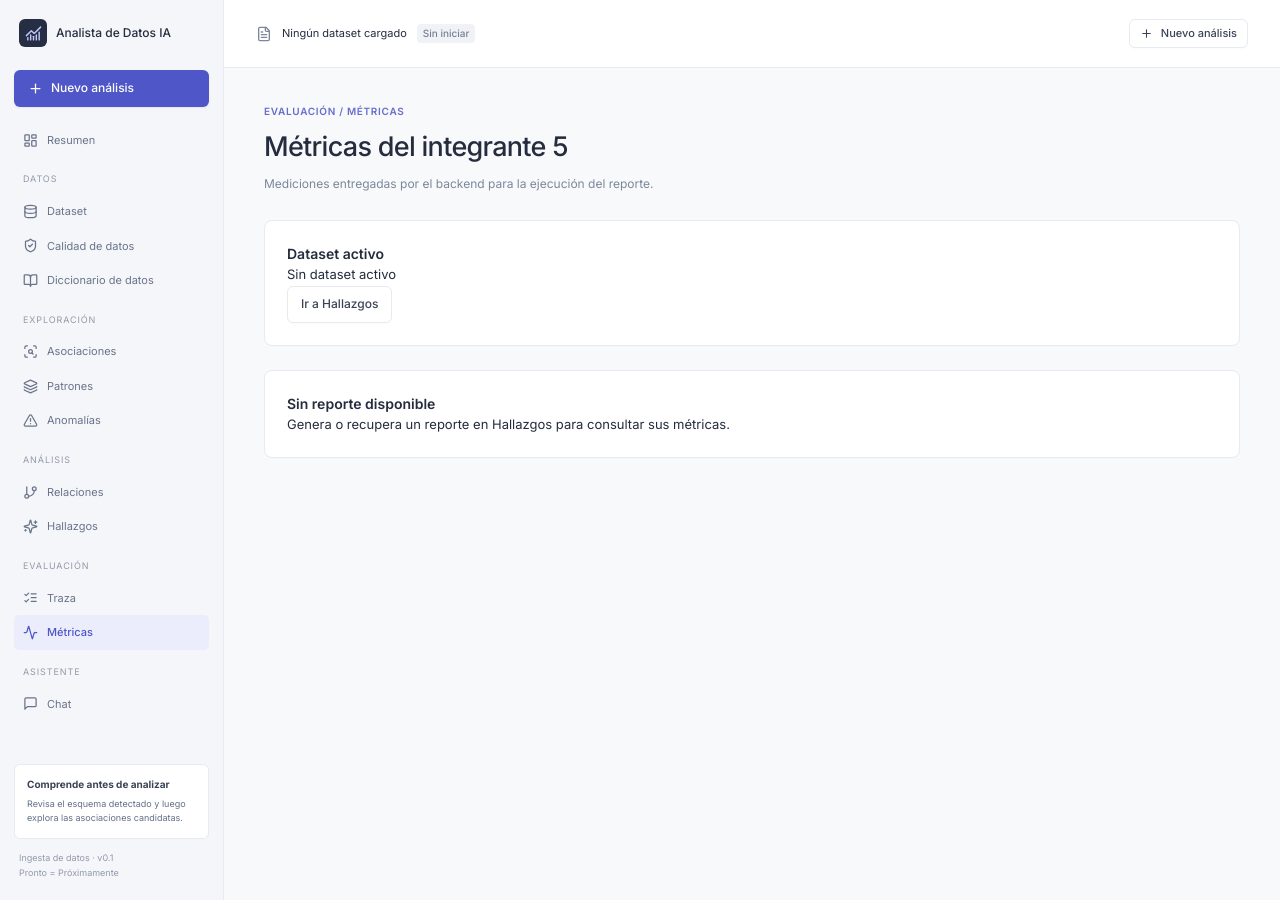
Test: historical unknown identity and absent metrics never borrow active dataset identity
Click the link "Hallazgos" at (60, 527), box [23,519,98,534]
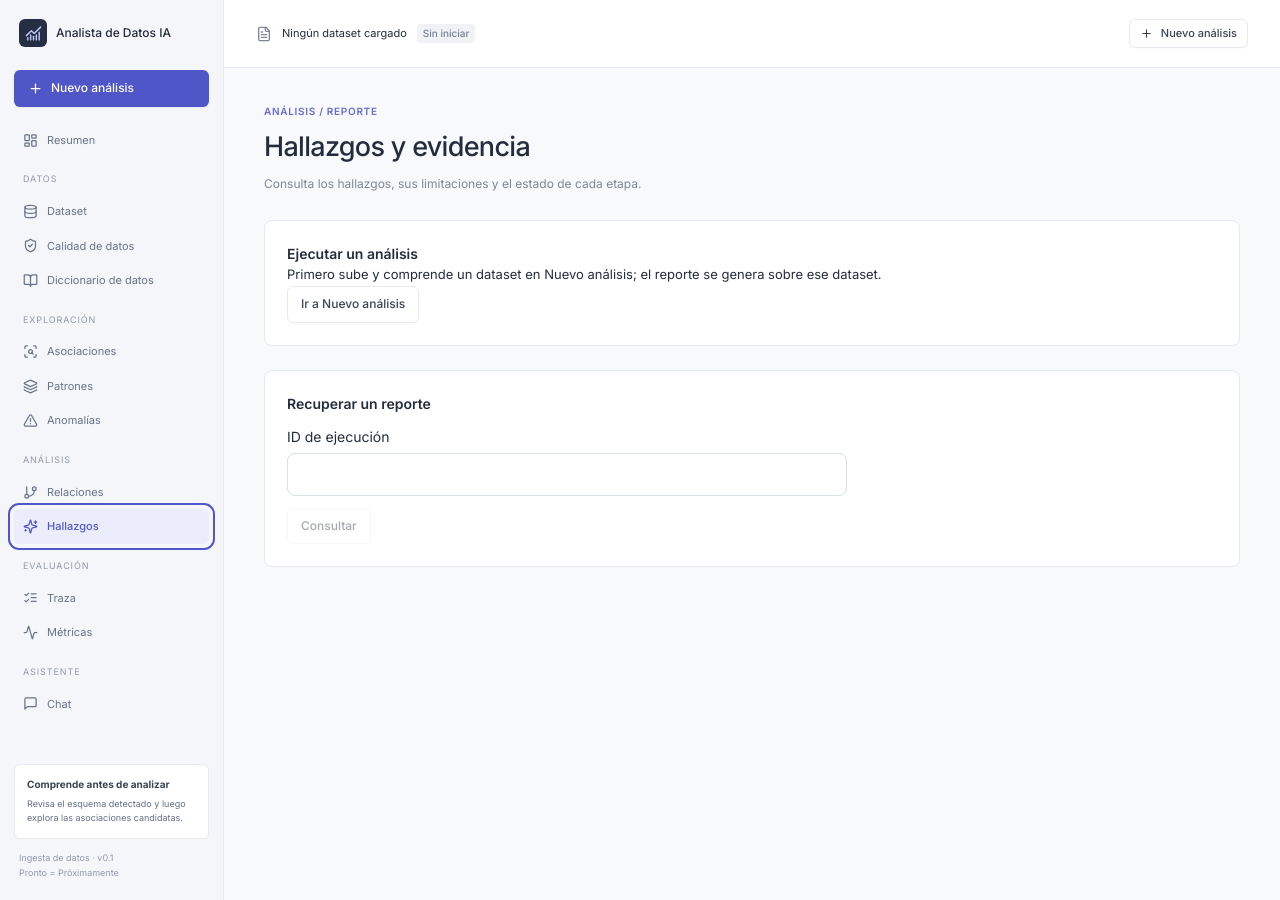
Type "metrics-run-a" into the field labelled "ID de ejecución" at (567, 474), box [287,453,847,496]
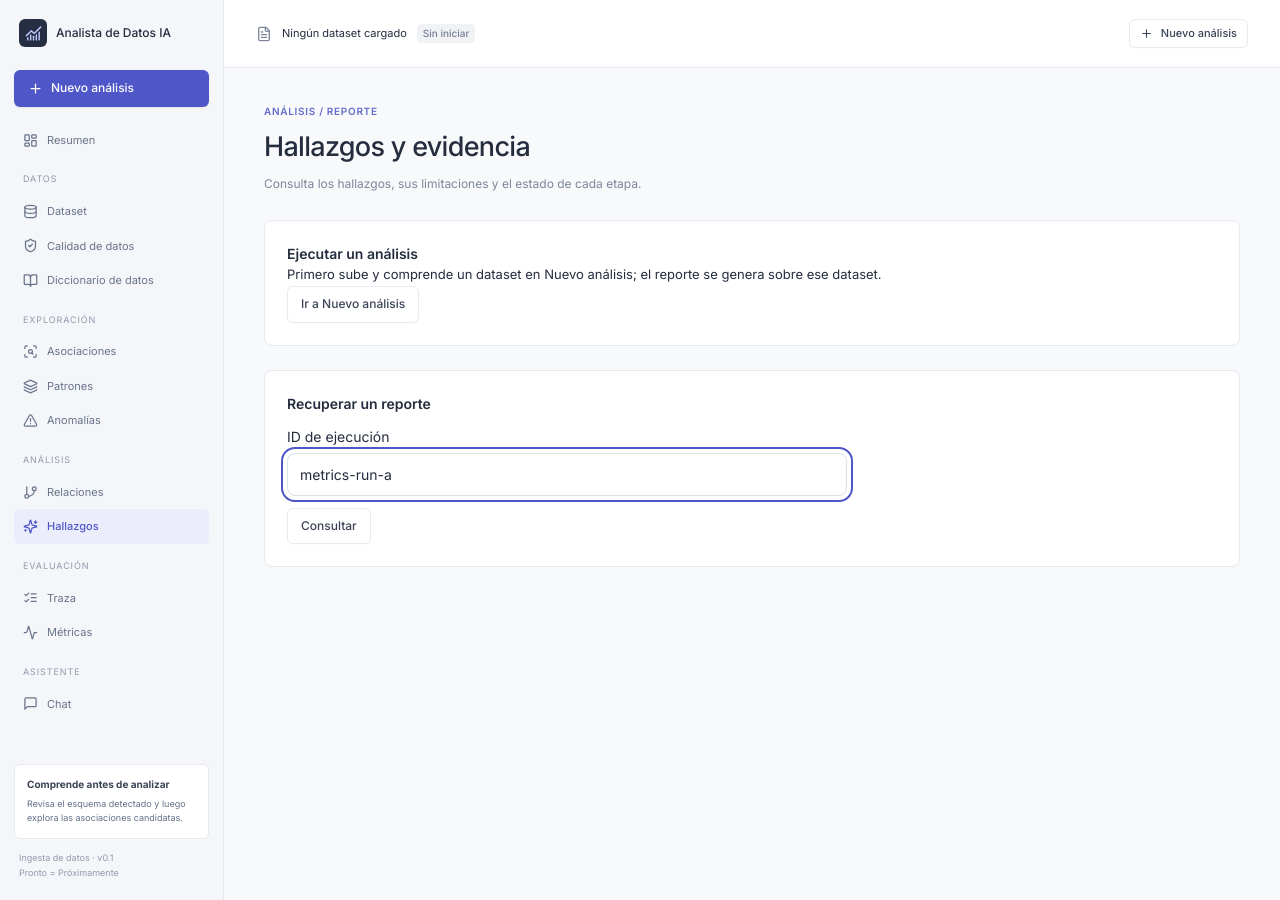
Click the button "Consultar" at (329, 526), box [287,508,371,544]
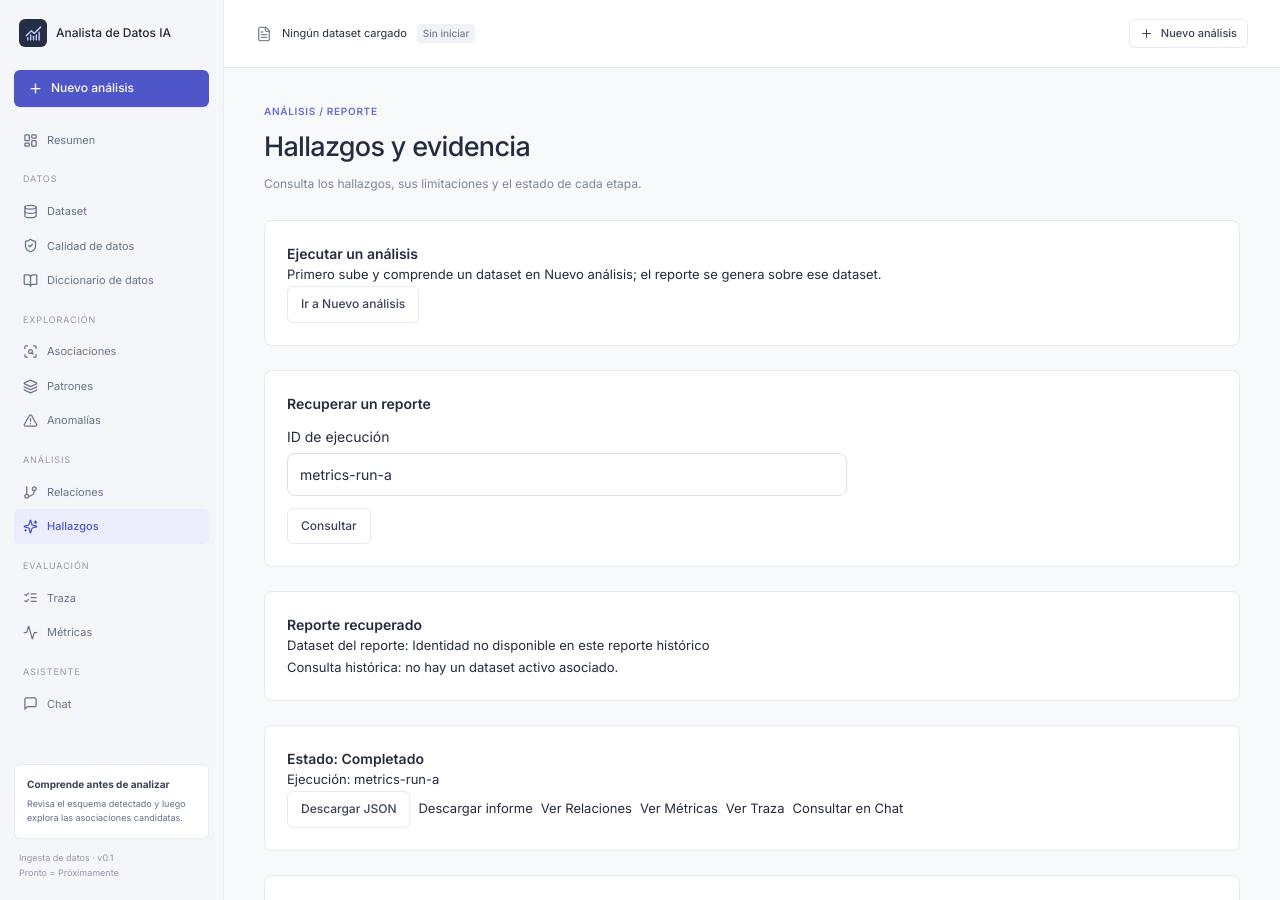
Click the link "Métricas" at (58, 632), box [23,625,92,640]
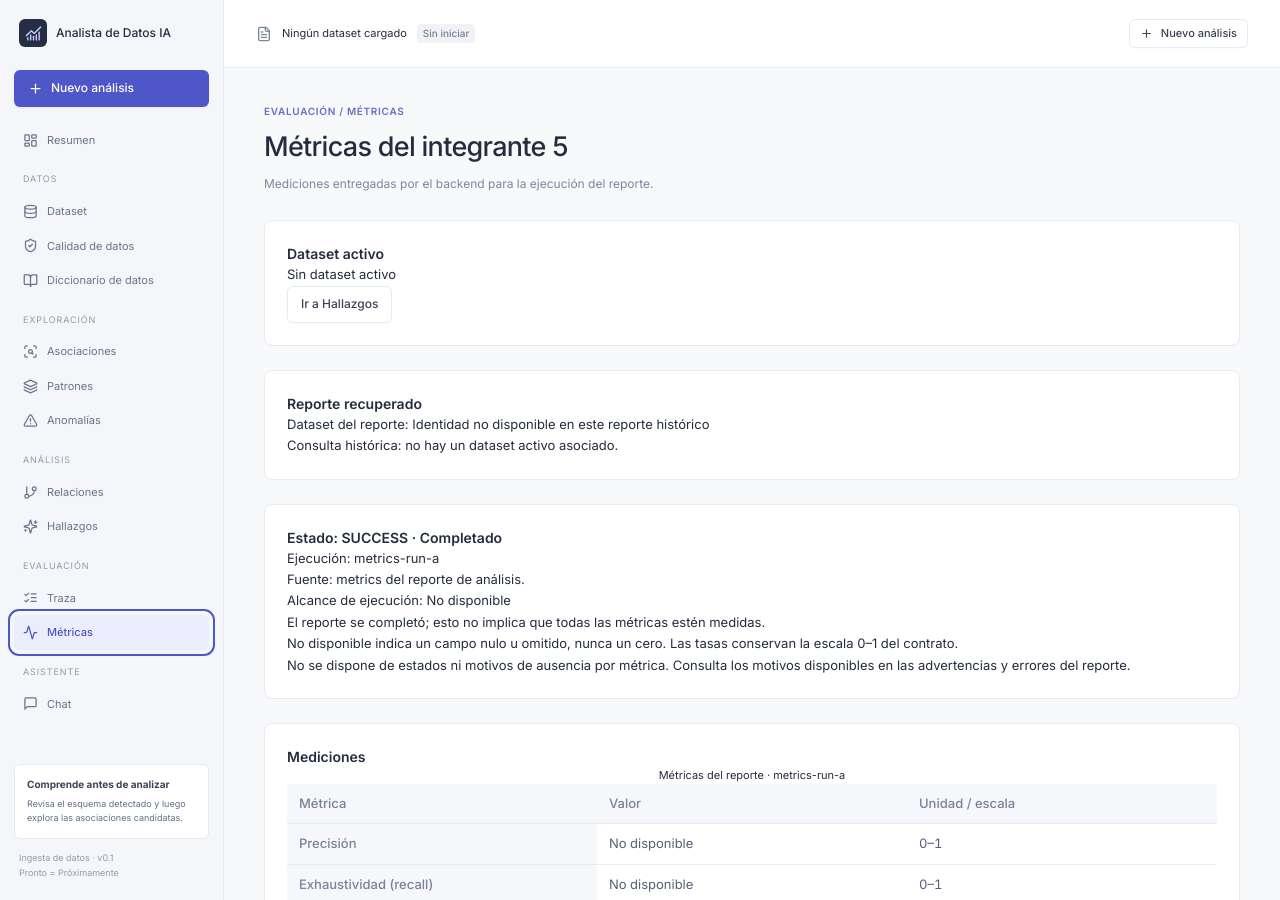
Now the text "Dataset del reporte: Identidad no disponible" is shown, box [287,416,709,432]
Now the text "Alcance de ejecución: No disponible" is shown, box [287,592,511,608]
